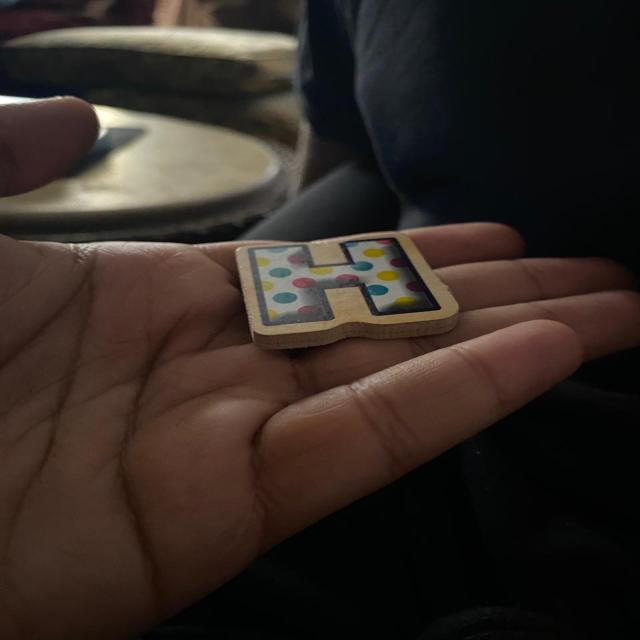H: (237, 233, 457, 349)
